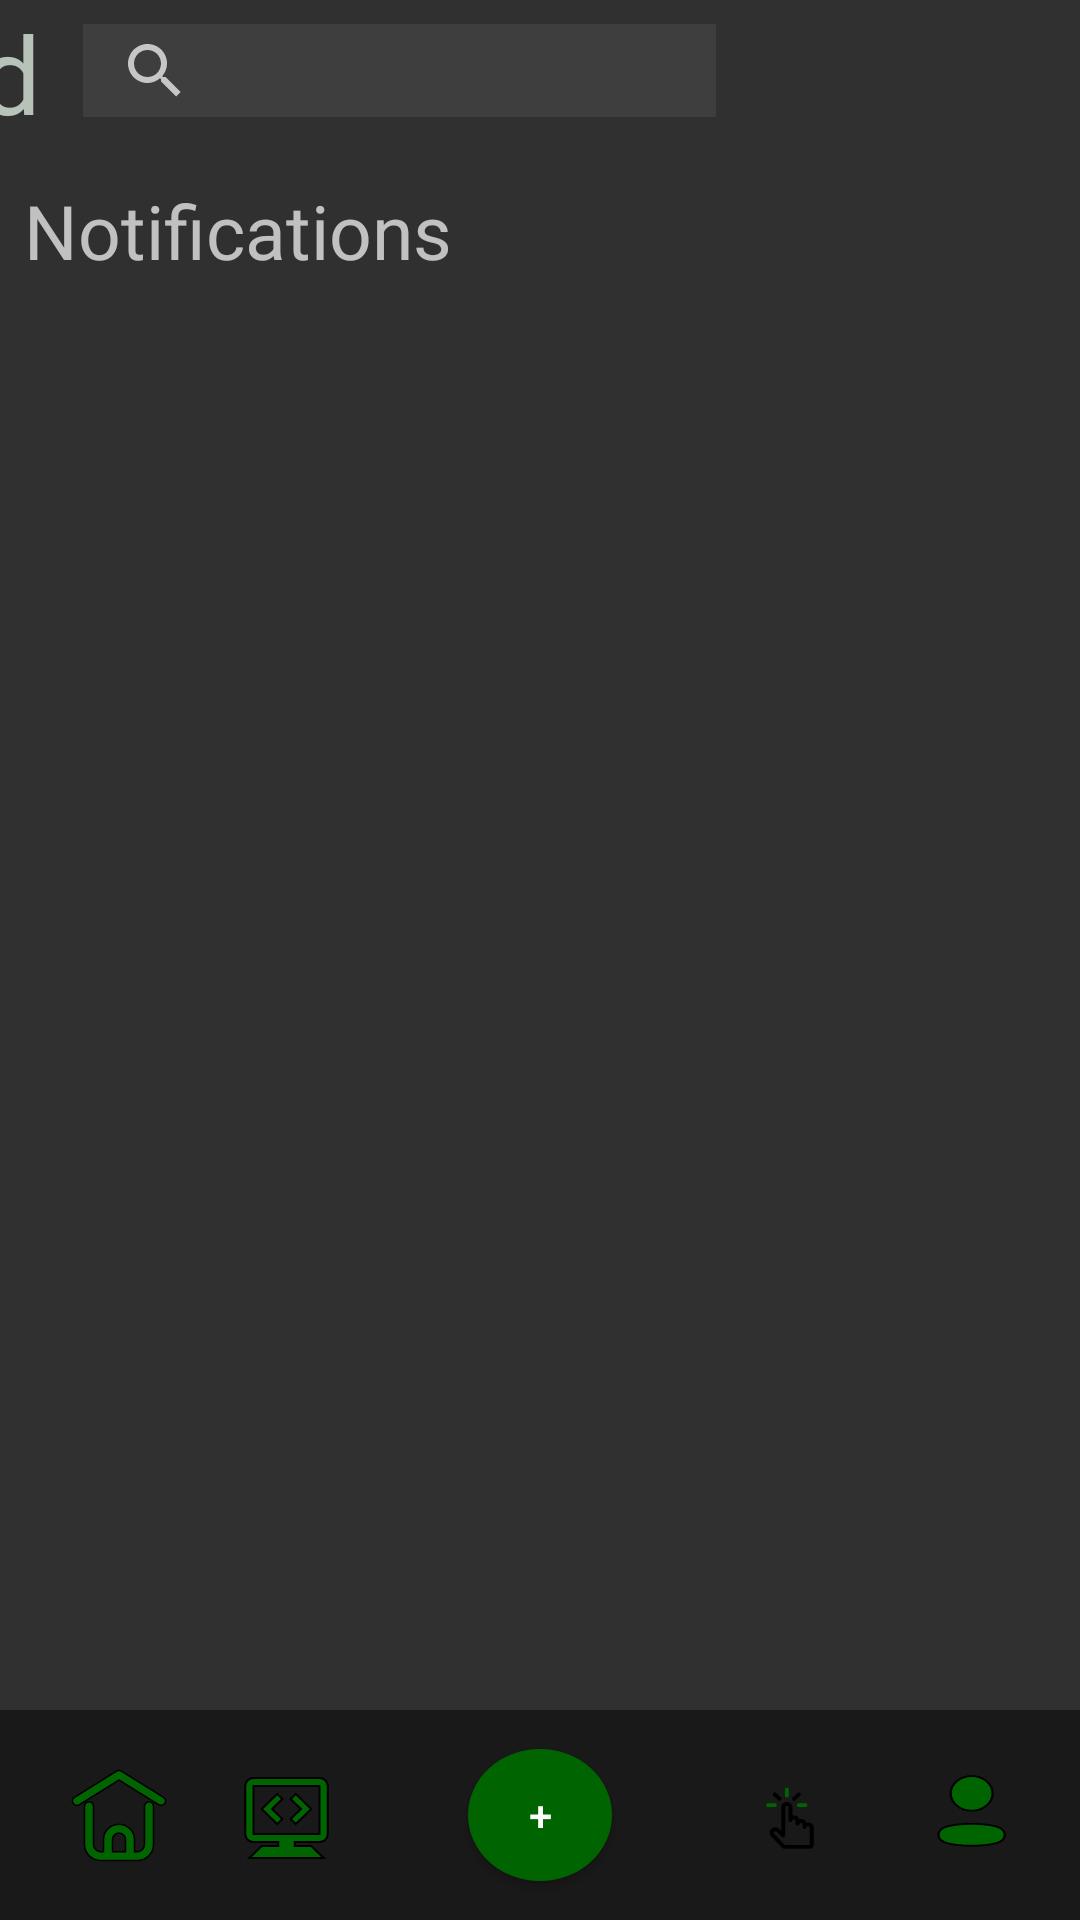

Locate icon controls on the screen. Image size 1080 x 1920, boxes as [x1,y1,x2,y2].
coding: [245,1777,328,1859]
home: [72,1770,166,1861]
profile: [938,1776,1005,1846]
